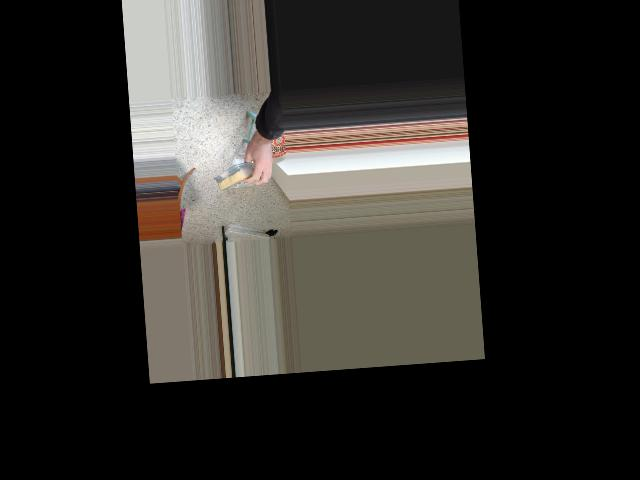cheese: (210, 158, 273, 190)
